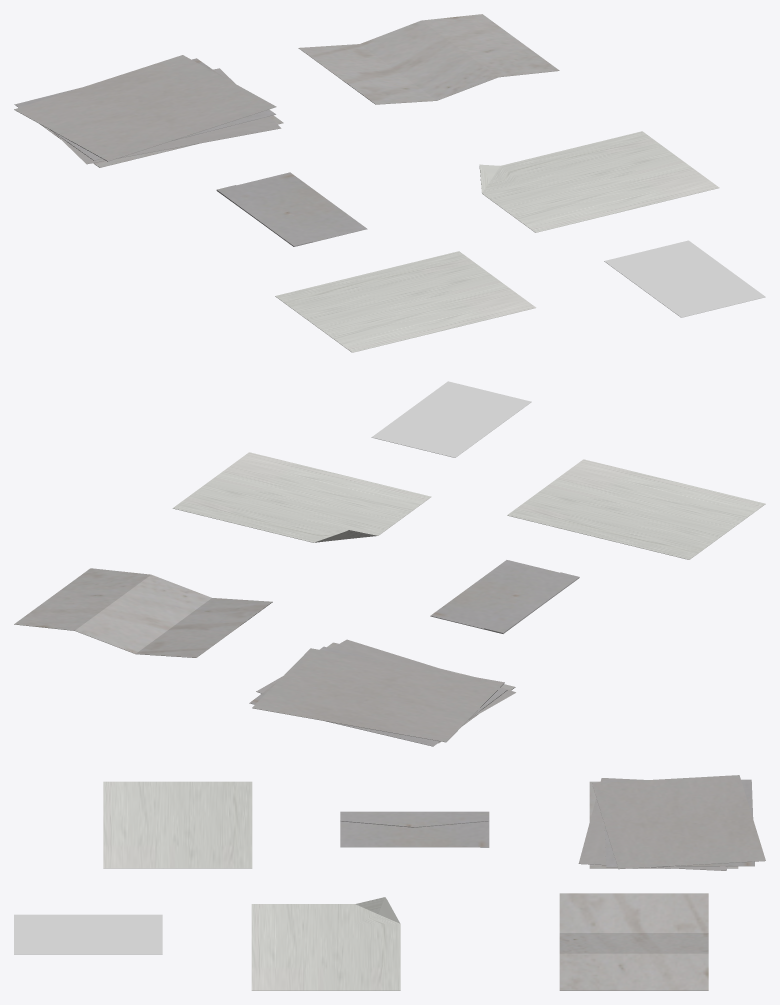
File: carta.fbx
3 renders of one model, top to bottom at view 1: azimuth 30°, elevation 25°; view 2: azimuth 150°, elevation 25°; view 3: azimuth 270°, elevation 25°, orthographic. The views are drawn at different scales.
Parts seen in each view (by area): view 1: papers.003, paper, letter, bended papers, POstcard, envelope, papers.001, papers.002; view 2: paper, papers.003, letter, bended papers, POstcard, envelope, papers.001, papers.002; view 3: bended papers, paper, papers.003, letter, POstcard, envelope, papers.001, papers.002, papers.
Part boxes in pixels (left/top/right/bottom): papers.003: left=14, top=55, right=276, bottom=161; paper: left=275, top=251, right=535, bottom=352; letter: left=479, top=131, right=719, bottom=232; bended papers: left=298, top=14, right=559, bottom=104; POstcard: left=604, top=240, right=765, bottom=317; envelope: left=216, top=172, right=367, bottom=246; papers.001: left=54, top=68, right=281, bottom=164; papers.002: left=14, top=58, right=275, bottom=160; paper: left=507, top=459, right=765, bottom=559; papers.003: left=252, top=648, right=504, bottom=742; letter: left=172, top=452, right=431, bottom=542; bended papers: left=14, top=568, right=272, bottom=657; POstcard: left=371, top=381, right=531, bottom=457; envelope: left=430, top=560, right=579, bottom=633; papers.001: left=256, top=639, right=515, bottom=719; papers.002: left=249, top=646, right=507, bottom=746; bended papers: left=559, top=893, right=708, bottom=990; paper: left=103, top=781, right=252, bottom=868; papers.003: left=592, top=775, right=765, bottom=869; letter: left=251, top=897, right=400, bottom=990; POstcard: left=14, top=914, right=162, bottom=954; envelope: left=340, top=811, right=489, bottom=847; papers.001: left=578, top=778, right=727, bottom=870; papers.002: left=603, top=779, right=754, bottom=867; papers: left=589, top=781, right=738, bottom=868.
Size of the model in its own units: 1011 by 676 by 21.3.
5 materials, 5 textured.
